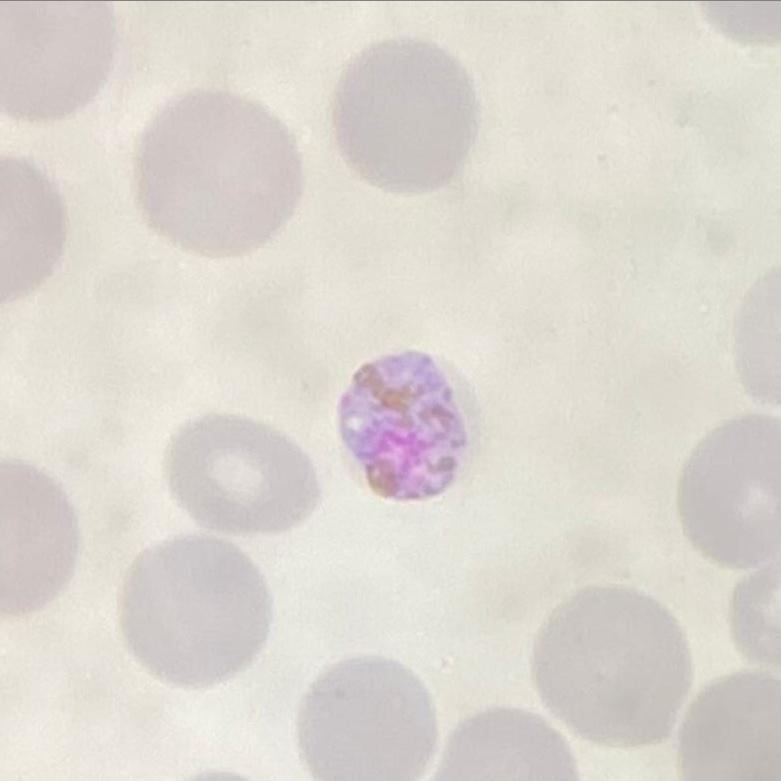Infected: (336, 345, 483, 506)
Uninfected: (134, 89, 303, 260), (536, 585, 694, 747), (120, 535, 269, 692), (334, 35, 479, 196), (164, 417, 321, 537), (302, 657, 430, 781), (678, 411, 781, 564), (0, 0, 114, 121)
